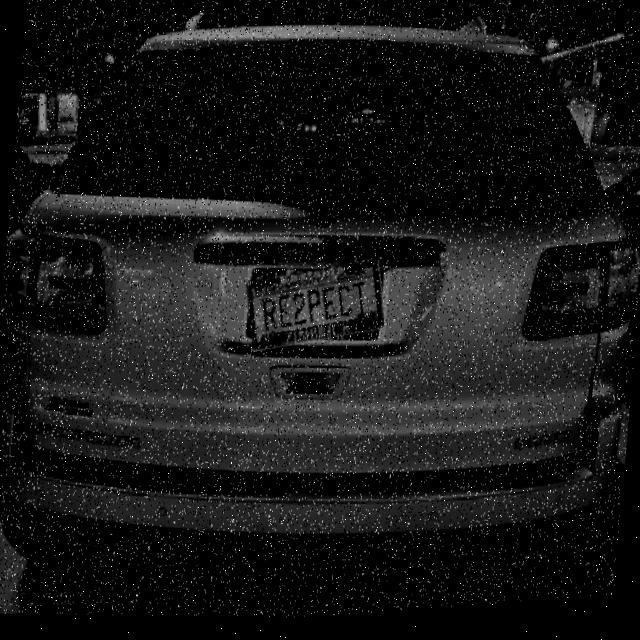LicensePlate: (247, 264, 385, 355)
